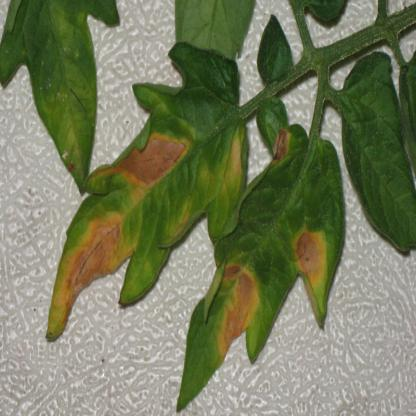Potato leaf early blight: (44, 34, 246, 325), (192, 127, 343, 389)
